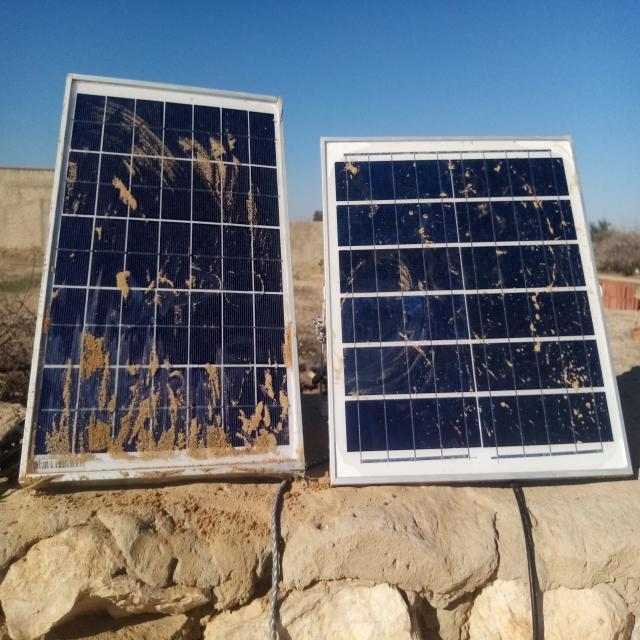faulty: (22, 74, 309, 484), (323, 137, 632, 486)
